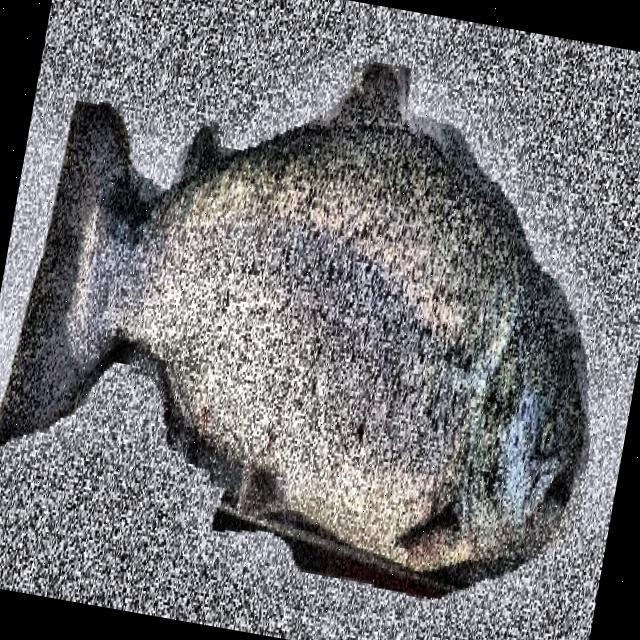mild_red: (36, 90, 533, 568)
